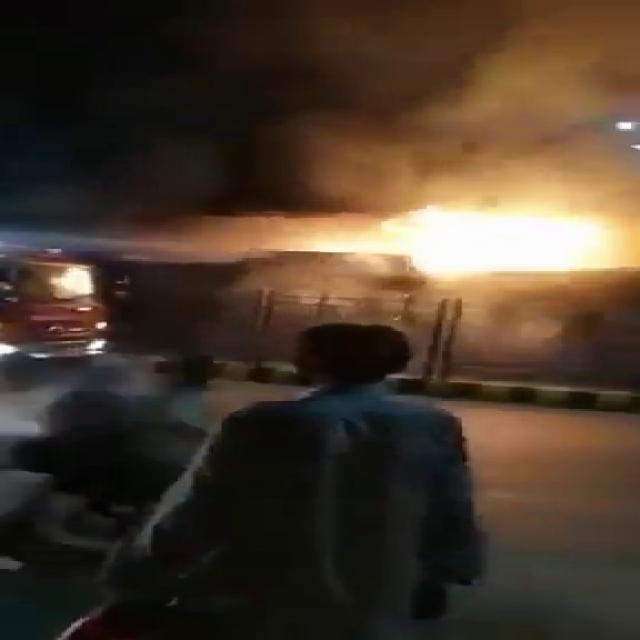Fire: (238, 208, 629, 289)
